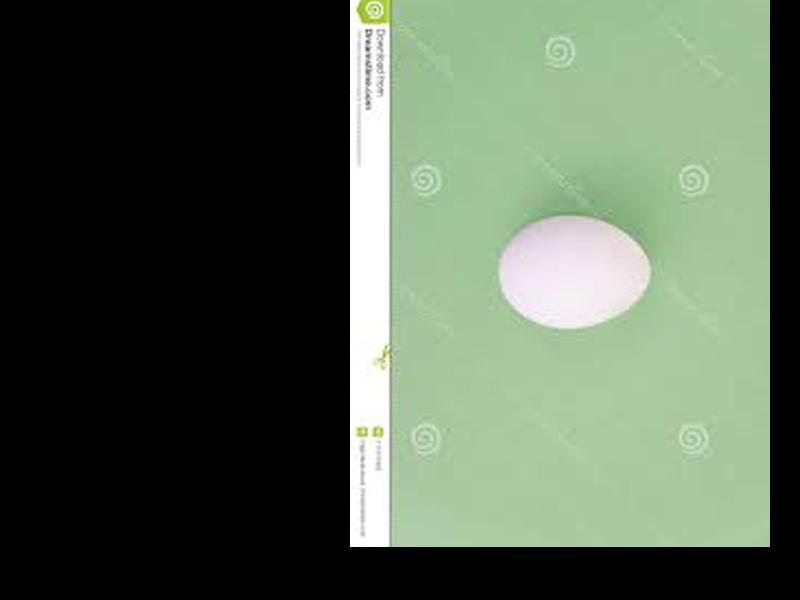Eggs: (499, 214, 648, 326)
